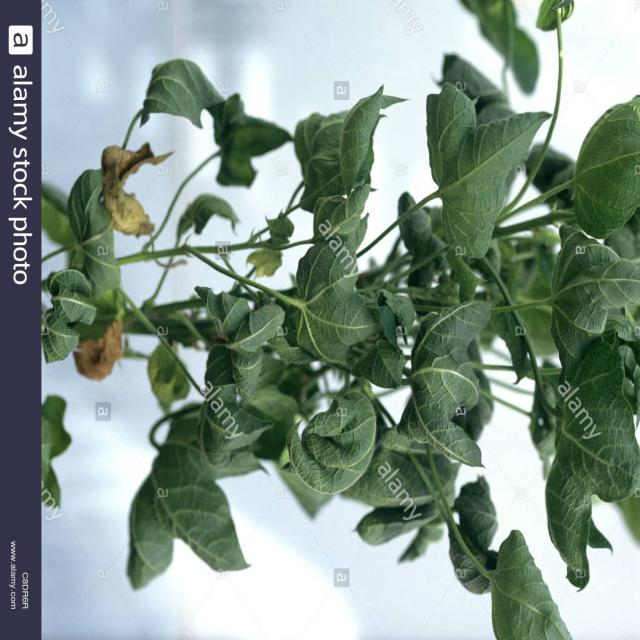Leaf Curl Virus: (95, 142, 632, 525)
